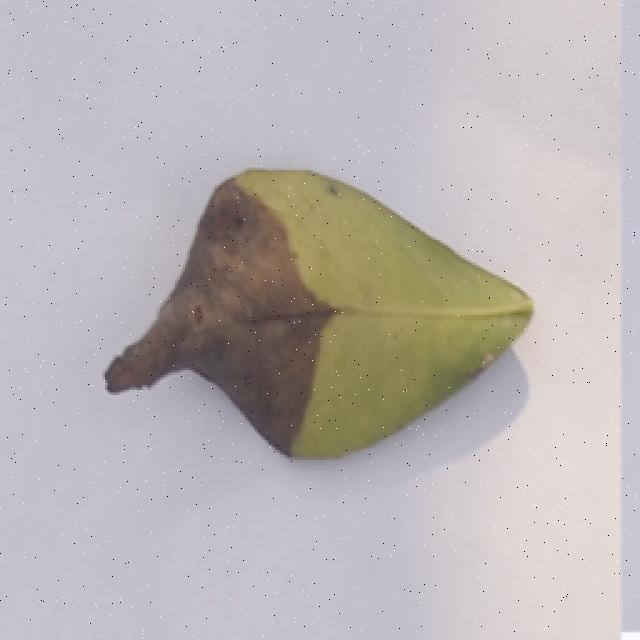blackspot: (96, 150, 538, 515)
